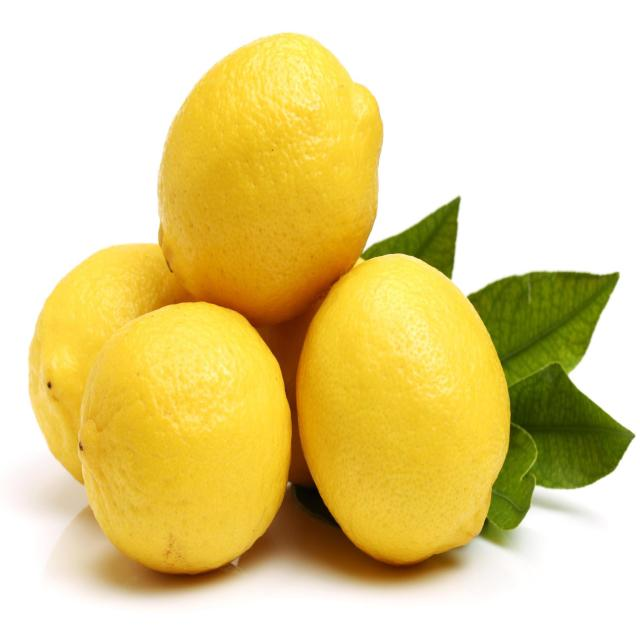lemon: (291, 246, 516, 582), (151, 25, 386, 317), (74, 296, 296, 580)
